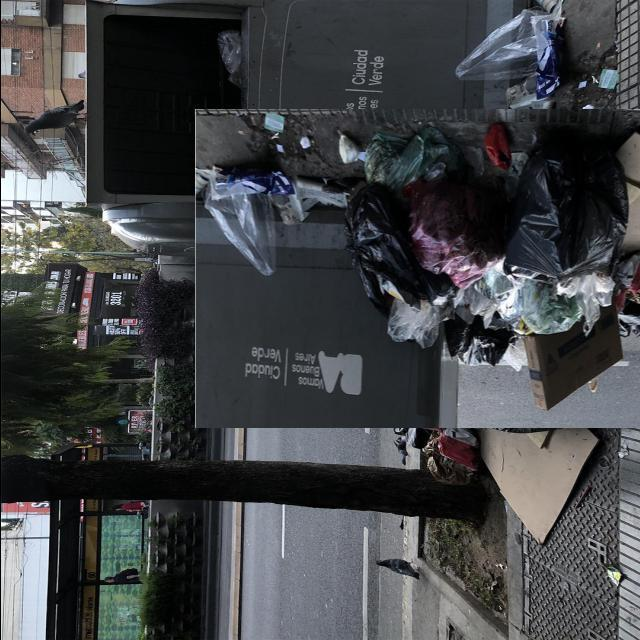Trashbag: (500, 130, 634, 286), (346, 185, 426, 307), (439, 316, 515, 372)
